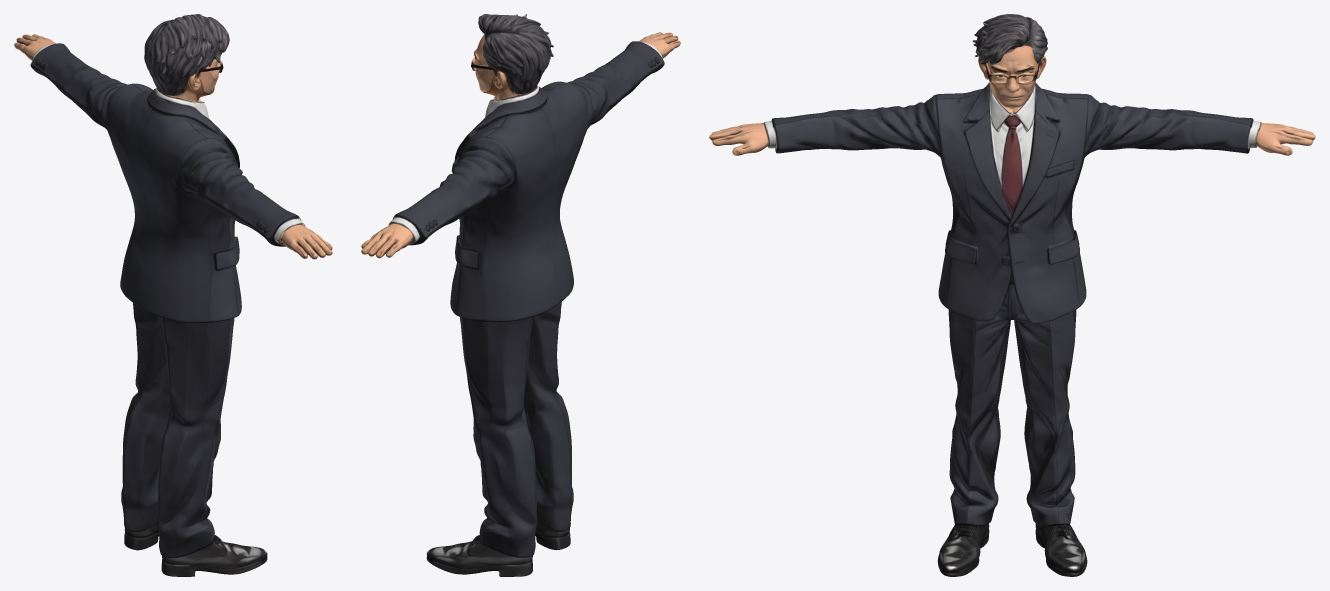
Rendered from salaryman-tripo-05.glb.
3 views of the same model, side by side, from view 1: azimuth 30°, elevation 25°; view 2: azimuth 150°, elevation 25°; view 3: azimuth 270°, elevation 25° (orthographic).
Visible parts, largest first — view 1: tripo_node_512ef81a-5727-4d20-b22a-7d78226031ba; view 2: tripo_node_512ef81a-5727-4d20-b22a-7d78226031ba; view 3: tripo_node_512ef81a-5727-4d20-b22a-7d78226031ba.
Part boxes in pixels (box(x1,y1,x2,y2)): tripo_node_512ef81a-5727-4d20-b22a-7d78226031ba: box(14, 14, 332, 576); tripo_node_512ef81a-5727-4d20-b22a-7d78226031ba: box(361, 14, 680, 576); tripo_node_512ef81a-5727-4d20-b22a-7d78226031ba: box(709, 14, 1315, 576).
Size of the model in its own units: 0.1952 by 0.9791 by 1.
1 material, 1 textured.
